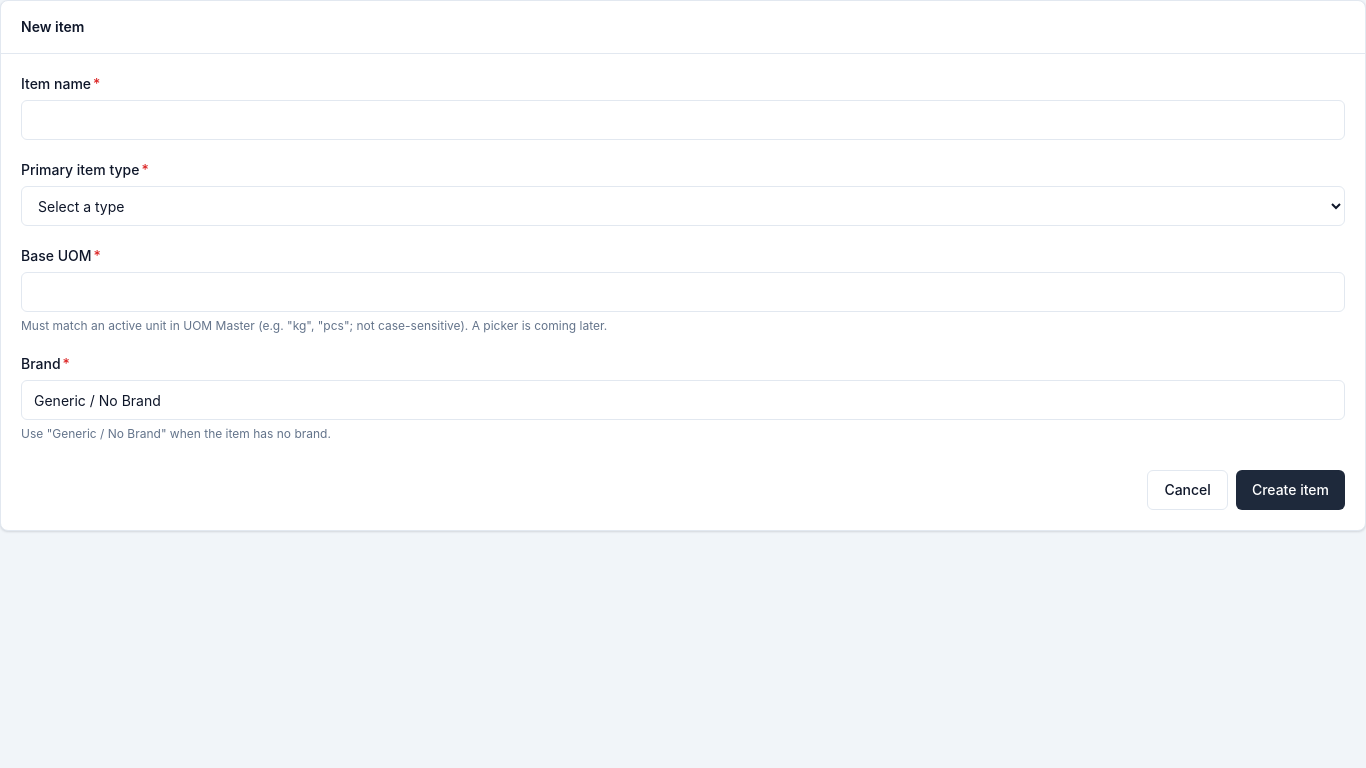
ItemFormPage › surfaces INVALID_BASE_UOM as a field-level error on Base UOM, not just a generic banner
Type "Flour" into the field labelled "Item name*" at [683, 120], box [21,100,1345,140]
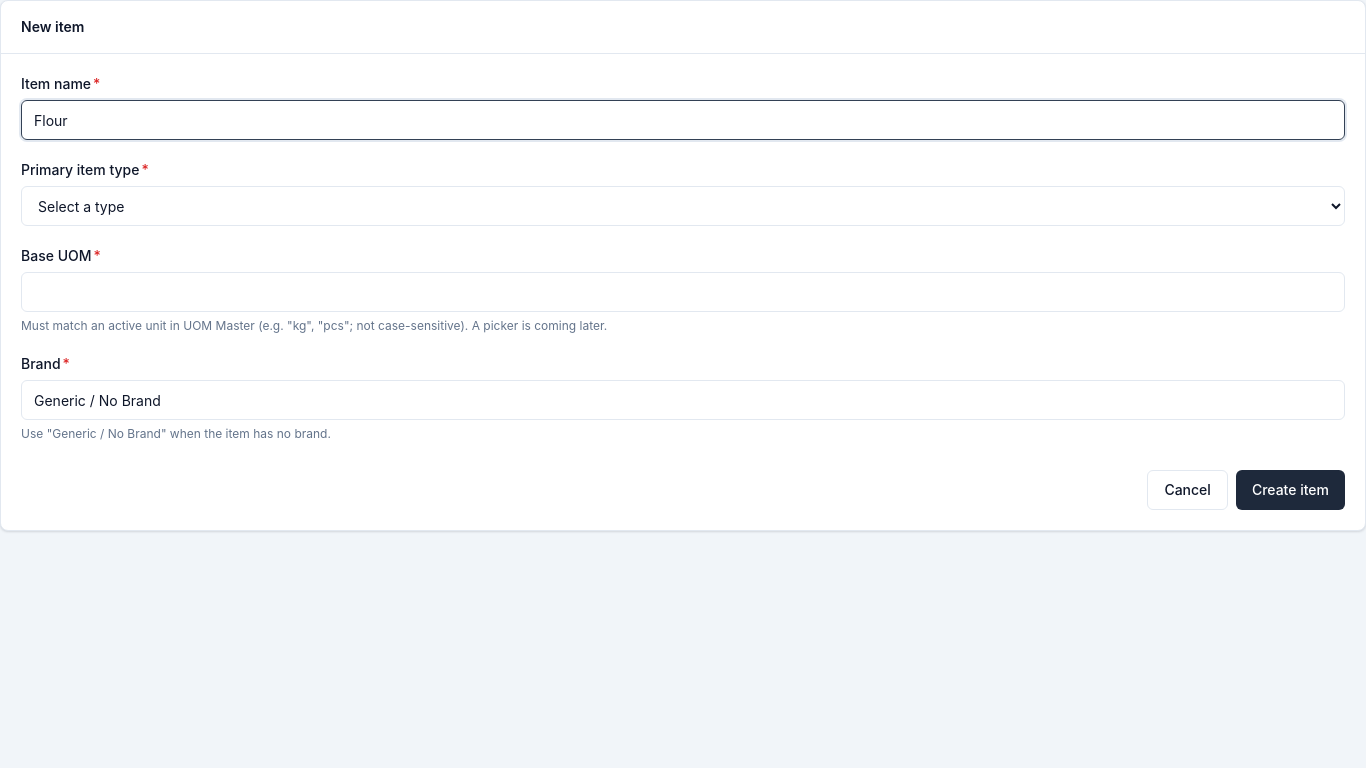
Select "Raw material" in the dropdown labelled "Primary item type*" at [683, 206], box [21,186,1345,226]
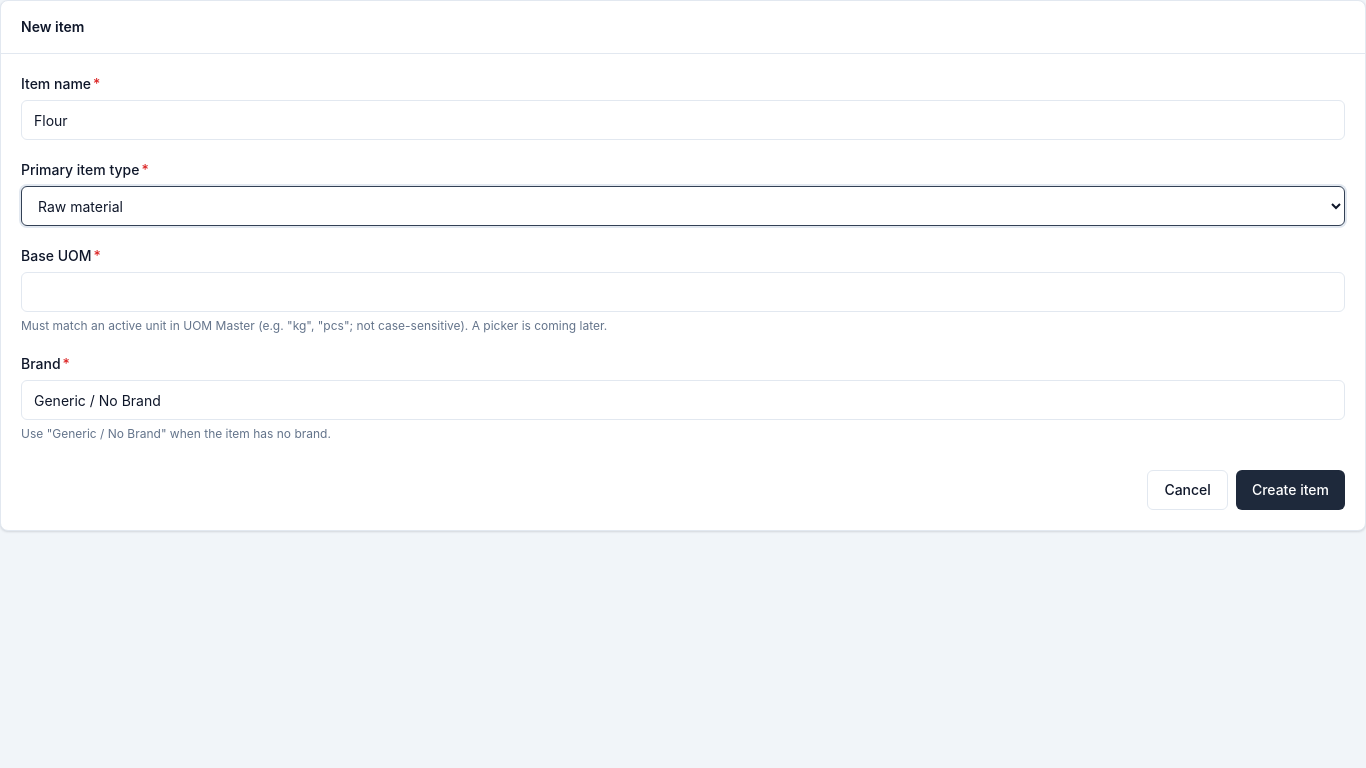
Type "not-a-real-unit" into the field labelled "Base UOM*" at [683, 292], box [21,272,1345,312]
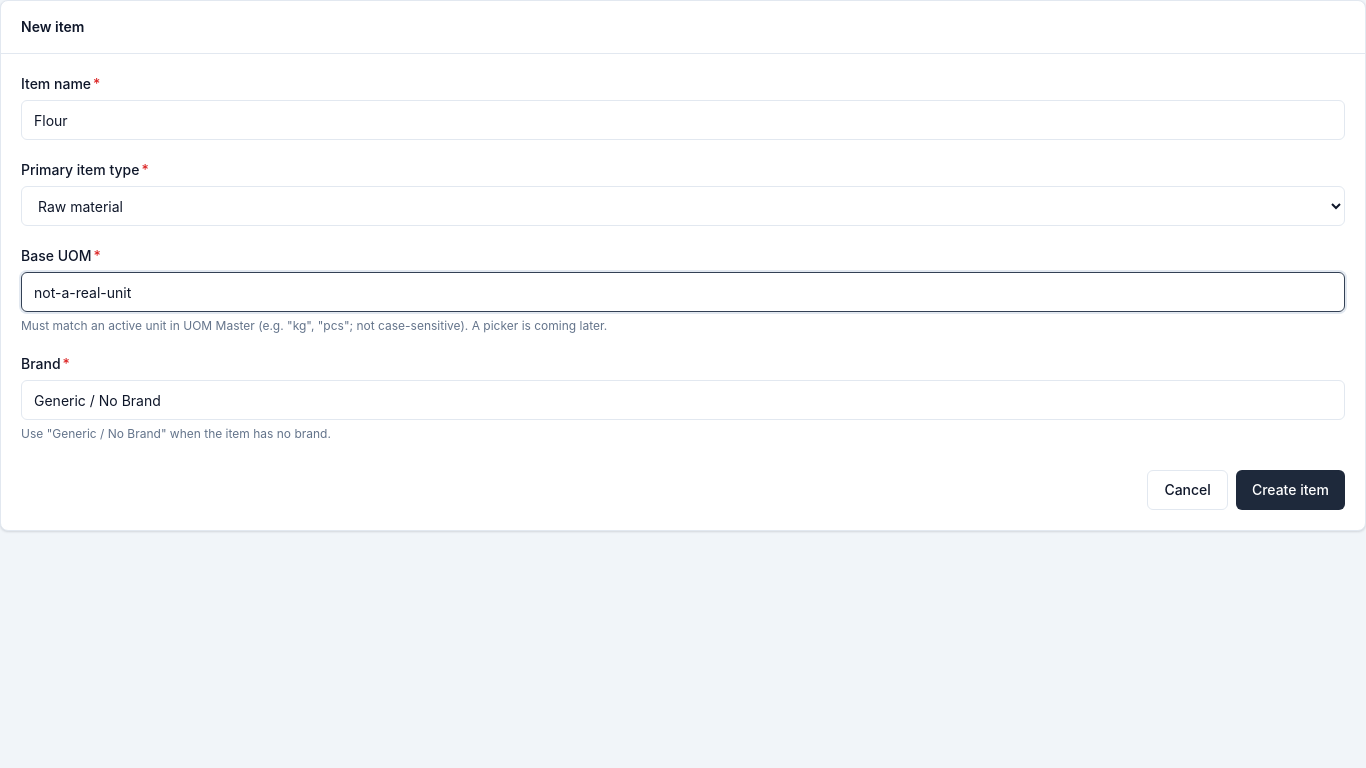
Click the button "Create item" at [1290, 490], box [1236,470,1345,510]
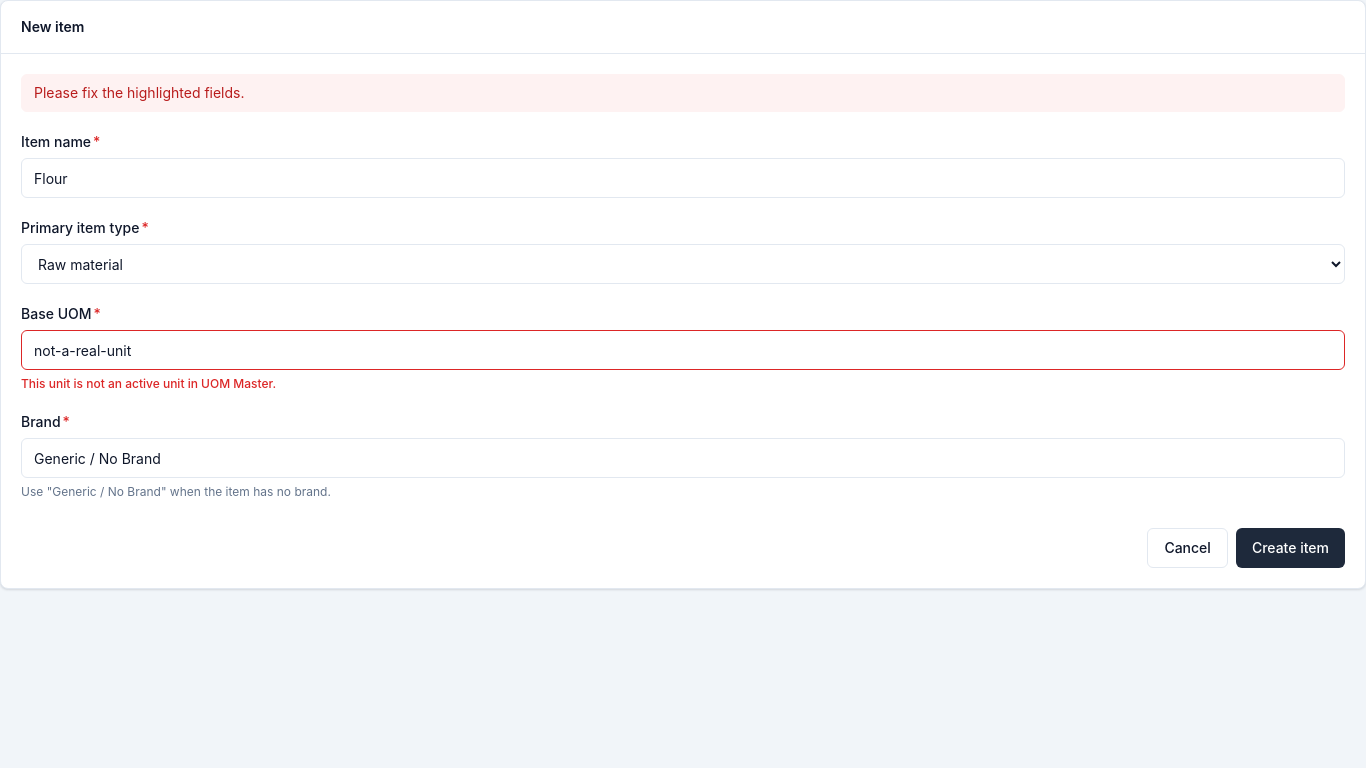
expect the text "This unit is not an active unit in UOM Master." is shown: met, box [21,376,276,391]
expect the text "Please fix the highlighted fields." is shown: met, box [21,74,1345,112]
